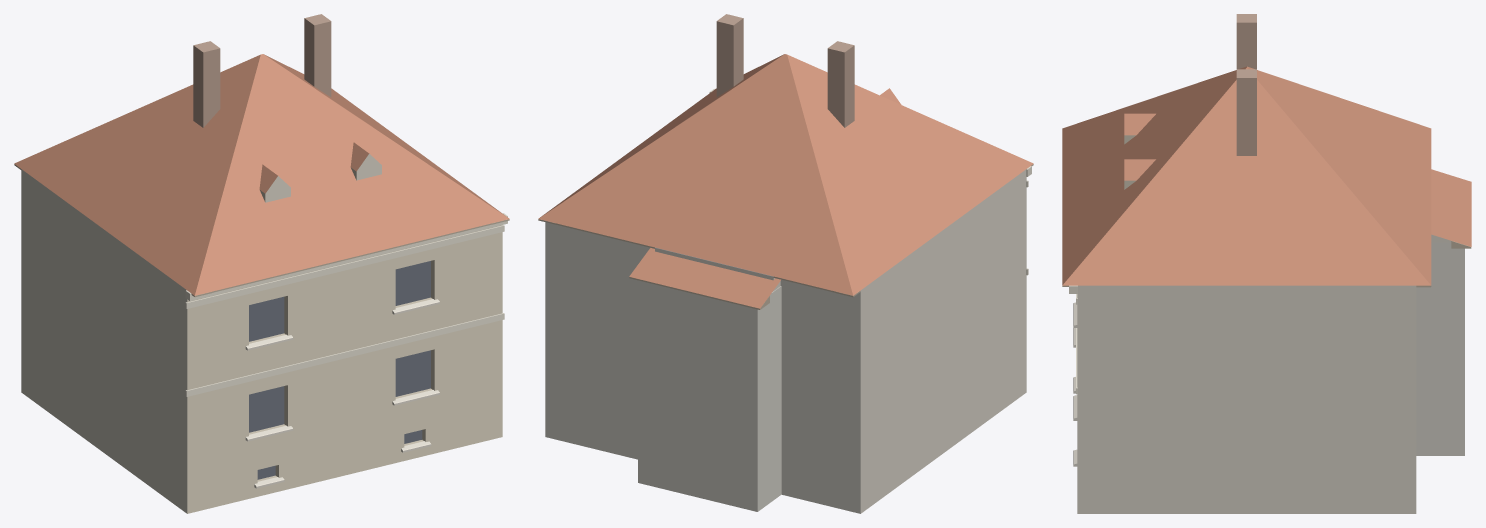
3 renders of one model, left to right at view 1: azimuth 30°, elevation 25°; view 2: azimuth 150°, elevation 25°; view 3: azimuth 270°, elevation 25°, orthographic. The views are drawn at different scales.
Parts seen in each view (by area): view 1: CP_1825_Masonry, CP_1825_Roof, CP_1825_Cornice_band1_0, CP_1825_Cornice_band2_0, CP_1825_Chimney_0, CP_1825_Chimney_1, CP_1825_Cornice_main_0, CP_1825_Dormer_V1, CP_1825_Dormer_V2, CP_1825_Roof_EaveClosure_0; view 2: CP_1825_Masonry, CP_1825_Roof, CP_1825_Rear_Stair, CP_1825_WingRoof_Rear_Stair, CP_1825_Chimney_0, CP_1825_Chimney_1, CP_1825_AtticClosure_1; view 3: CP_1825_Masonry, CP_1825_Roof, CP_1825_Rear_Stair, CP_1825_WingRoof_Rear_Stair, CP_1825_Chimney_1, CP_1825_Chimney_0, CP_1825_Dormer_V1, CP_1825_Dormer_V2.
Boxes of the visible parts, x1=… form: CP_1825_Masonry: x1=21, y1=169, x2=502, y2=513; CP_1825_Roof: x1=14, y1=54, x2=509, y2=295; CP_1825_Cornice_band1_0: x1=185, y1=313, x2=504, y2=396; CP_1825_Cornice_band2_0: x1=185, y1=225, x2=504, y2=308; CP_1825_Chimney_0: x1=193, y1=41, x2=220, y2=127; CP_1825_Chimney_1: x1=304, y1=14, x2=331, y2=96; CP_1825_Cornice_main_0: x1=185, y1=213, x2=507, y2=301; CP_1825_Dormer_V1: x1=259, y1=164, x2=290, y2=202; CP_1825_Dormer_V2: x1=350, y1=142, x2=381, y2=180; CP_1825_Roof_EaveClosure_0: x1=191, y1=223, x2=492, y2=296; CP_1825_Masonry: x1=545, y1=169, x2=1026, y2=513; CP_1825_Roof: x1=538, y1=54, x2=1033, y2=295; CP_1825_Rear_Stair: x1=638, y1=280, x2=781, y2=511; CP_1825_WingRoof_Rear_Stair: x1=629, y1=248, x2=780, y2=308; CP_1825_Chimney_0: x1=827, y1=41, x2=854, y2=127; CP_1825_Chimney_1: x1=716, y1=14, x2=743, y2=96; CP_1825_AtticClosure_1: x1=655, y1=247, x2=780, y2=291; CP_1825_Masonry: x1=1077, y1=285, x2=1416, y2=513; CP_1825_Roof: x1=1062, y1=66, x2=1431, y2=285; CP_1825_Rear_Stair: x1=1416, y1=242, x2=1464, y2=455; CP_1825_WingRoof_Rear_Stair: x1=1431, y1=169, x2=1471, y2=246; CP_1825_Chimney_1: x1=1236, y1=69, x2=1256, y2=155; CP_1825_Chimney_0: x1=1236, y1=14, x2=1256, y2=69; CP_1825_Dormer_V1: x1=1124, y1=113, x2=1155, y2=144; CP_1825_Dormer_V2: x1=1124, y1=159, x2=1155, y2=189.
Size of the model in its own units: 11.17 by 12.8 by 12.19.
